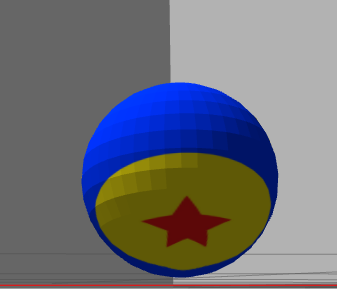toy story ball: (81, 80, 279, 277)
